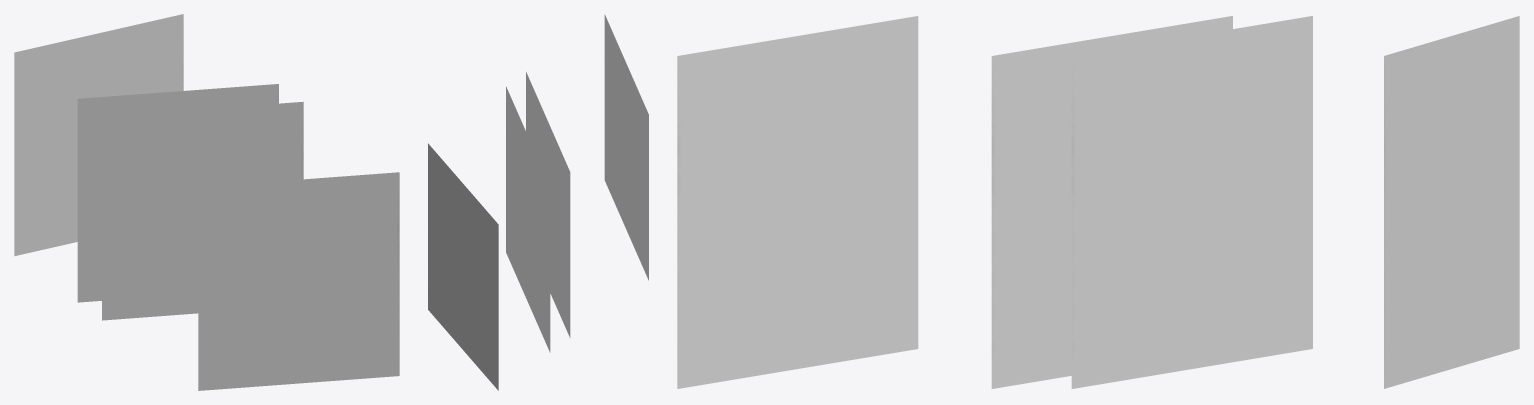
File: scene1_light.FBX
3 views of the same model, side by side, from view 1: azimuth 30°, elevation 25°; view 2: azimuth 150°, elevation 25°; view 3: azimuth 270°, elevation 25° (orthographic). The views are drawn at different scales.
Parts seen in each view (by area): view 1: Object01; view 2: Object01; view 3: Object01.
Part boxes in pixels (bbox=[...]): Object01: bbox=[14, 14, 399, 390]; Object01: bbox=[428, 14, 648, 390]; Object01: bbox=[677, 16, 1519, 388].
Size of the model in its own units: 2122 by 3835 by 7415.
